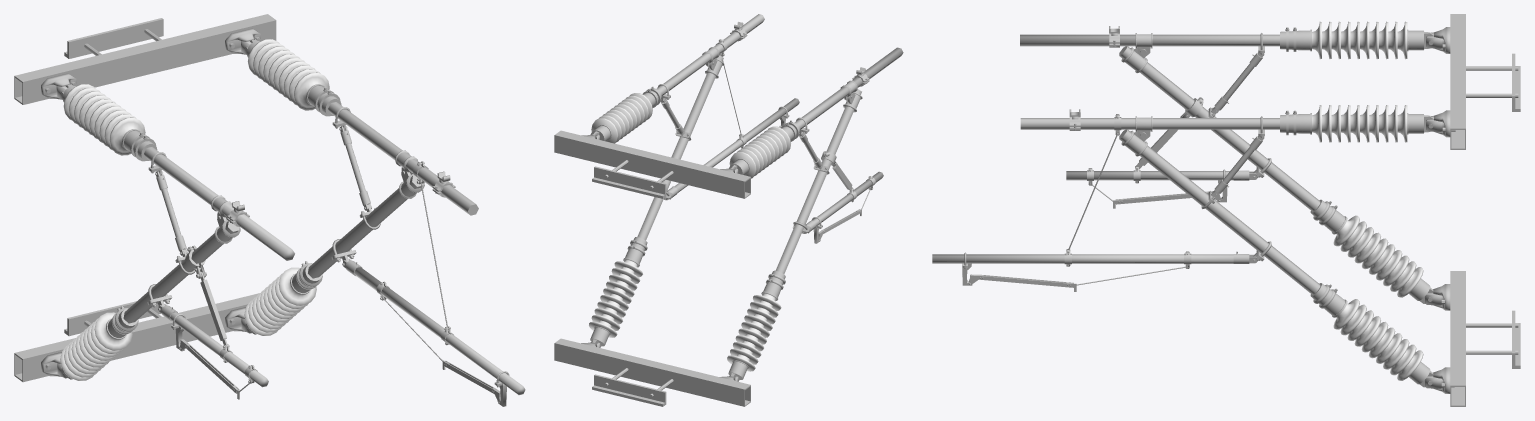
File: single_short_double_1.obj
3 renders of one model, left to right at view 1: azimuth 30°, elevation 25°; view 2: azimuth 150°, elevation 25°; view 3: azimuth 270°, elevation 25°, orthographic. The views are drawn at different scales.
Parts seen in each view (by area): view 1: 立方体.582, 立方体.577, 贝塞尔曲线.153, 贝塞尔曲线.109, 贝塞尔曲线.107, 贝塞尔曲线.108, 立方体.580, 贝塞尔曲线.154, 贝塞尔曲线.161, 立方体.579, 柱体.1529, 柱体.1016 (+7 smaller); view 2: 立方体.577, 立方体.582, 贝塞尔曲线.154, 贝塞尔曲线.108, 立方体.580, 立方体.579, 贝塞尔曲线.153, 贝塞尔曲线.107, 贝塞尔曲线.109, 贝塞尔曲线.161, 柱体.1023, 柱体.1522; view 3: 贝塞尔曲线.108, 贝塞尔曲线.153, 贝塞尔曲线.109, 贝塞尔曲线.107, 贝塞尔曲线.154, 立方体.577, 立方体.582, 贝塞尔曲线.161, 柱体.1557, 柱体.989, 柱体.1522, 立方体.477 (+1 smaller).
Part boxes in pixels (left/top/right/bottom): 立方体.582: left=14, top=14, right=276, bottom=104; 立方体.577: left=14, top=293, right=259, bottom=382; 贝塞尔曲线.153: left=144, top=147, right=294, bottom=260; 贝塞尔曲线.109: left=354, top=267, right=525, bottom=394; 贝塞尔曲线.107: left=328, top=102, right=478, bottom=215; 贝塞尔曲线.108: left=308, top=175, right=423, bottom=278; 立方体.580: left=64, top=18, right=163, bottom=58; 贝塞尔曲线.154: left=123, top=221, right=239, bottom=323; 贝塞尔曲线.161: left=170, top=312, right=268, bottom=387; 立方体.579: left=64, top=301, right=161, bottom=336; 柱体.1529: left=94, top=312, right=132, bottom=350; 柱体.1016: left=278, top=267, right=316, bottom=305; 立方体.577: left=554, top=338, right=750, bottom=406; 立方体.582: left=554, top=130, right=750, bottom=198; 贝塞尔曲线.154: left=775, top=89, right=861, bottom=273; 贝塞尔曲线.108: left=637, top=55, right=723, bottom=240; 立方体.580: left=592, top=166, right=666, bottom=198; 立方体.579: left=592, top=374, right=666, bottom=406; 贝塞尔曲线.153: left=794, top=47, right=903, bottom=129; 贝塞尔曲线.107: left=656, top=14, right=764, bottom=95; 贝塞尔曲线.109: left=674, top=98, right=799, bottom=192; 贝塞尔曲线.161: left=812, top=171, right=883, bottom=226; 柱体.1023: left=623, top=237, right=647, bottom=267; 柱体.1522: left=761, top=270, right=785, bottom=300; 贝塞尔曲线.108: left=1119, top=129, right=1320, bottom=294; 贝塞尔曲线.153: left=1020, top=34, right=1279, bottom=46; 贝塞尔曲线.109: left=932, top=254, right=1233, bottom=263; 贝塞尔曲线.107: left=1020, top=118, right=1279, bottom=129; 贝塞尔曲线.154: left=1119, top=46, right=1320, bottom=211; 立方体.577: left=1450, top=271, right=1465, bottom=406; 立方体.582: left=1450, top=14, right=1465, bottom=149; 贝塞尔曲线.161: left=1066, top=171, right=1233, bottom=180; 柱体.1557: left=1280, top=29, right=1311, bottom=51; 柱体.989: left=1280, top=113, right=1311, bottom=134; 柱体.1522: left=1310, top=199, right=1347, bottom=234; 立方体.477: left=978, top=274, right=1073, bottom=287.
Size of the model in its own units: 1.72 by 1.99 by 3.73.
